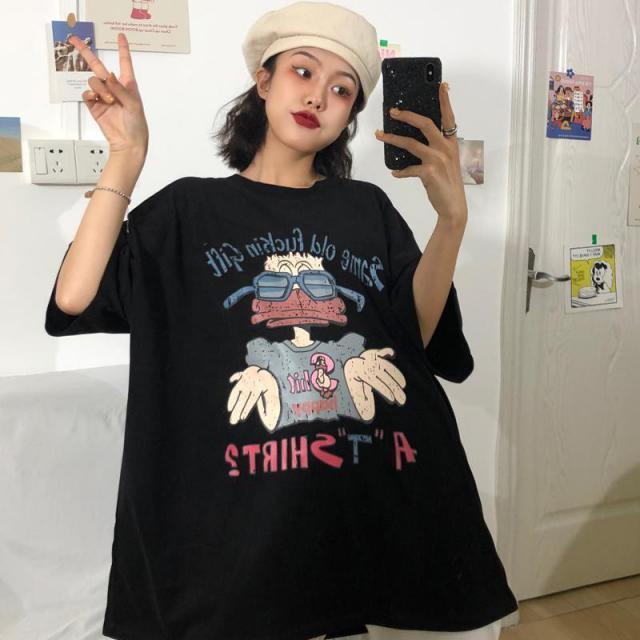Shirt: (49, 159, 522, 639)
